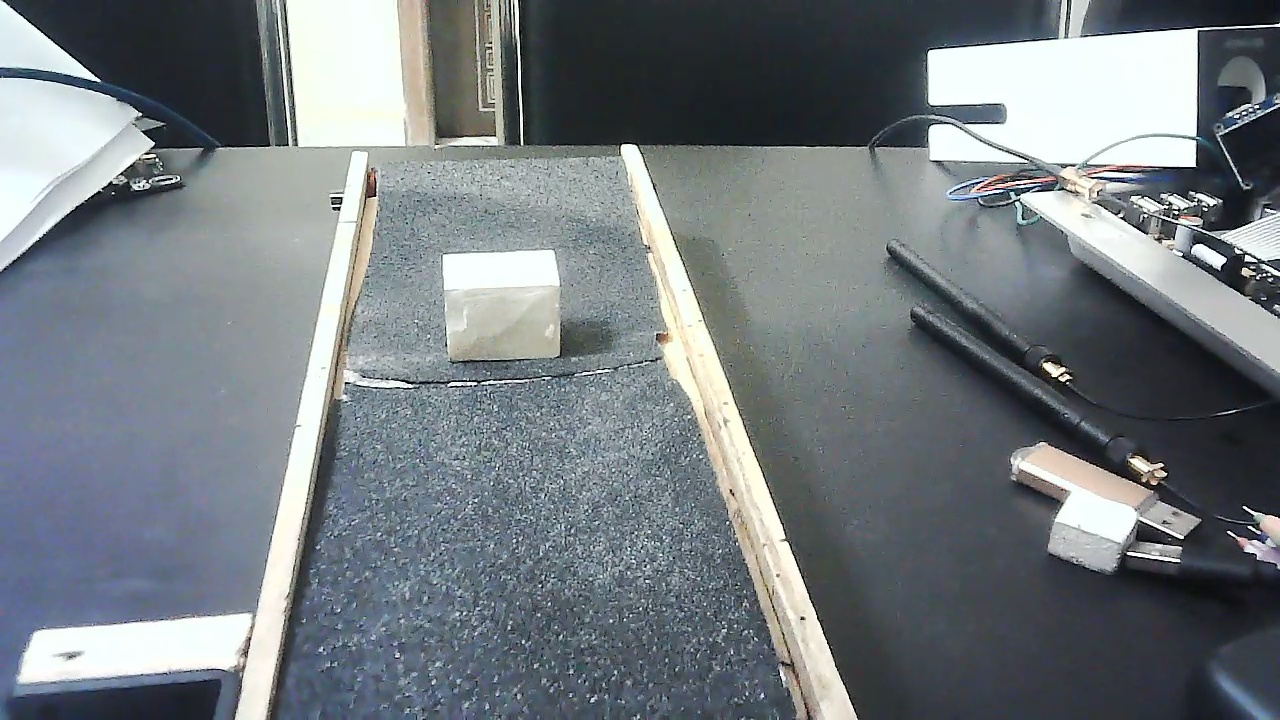Medium: (440, 245, 561, 366)
